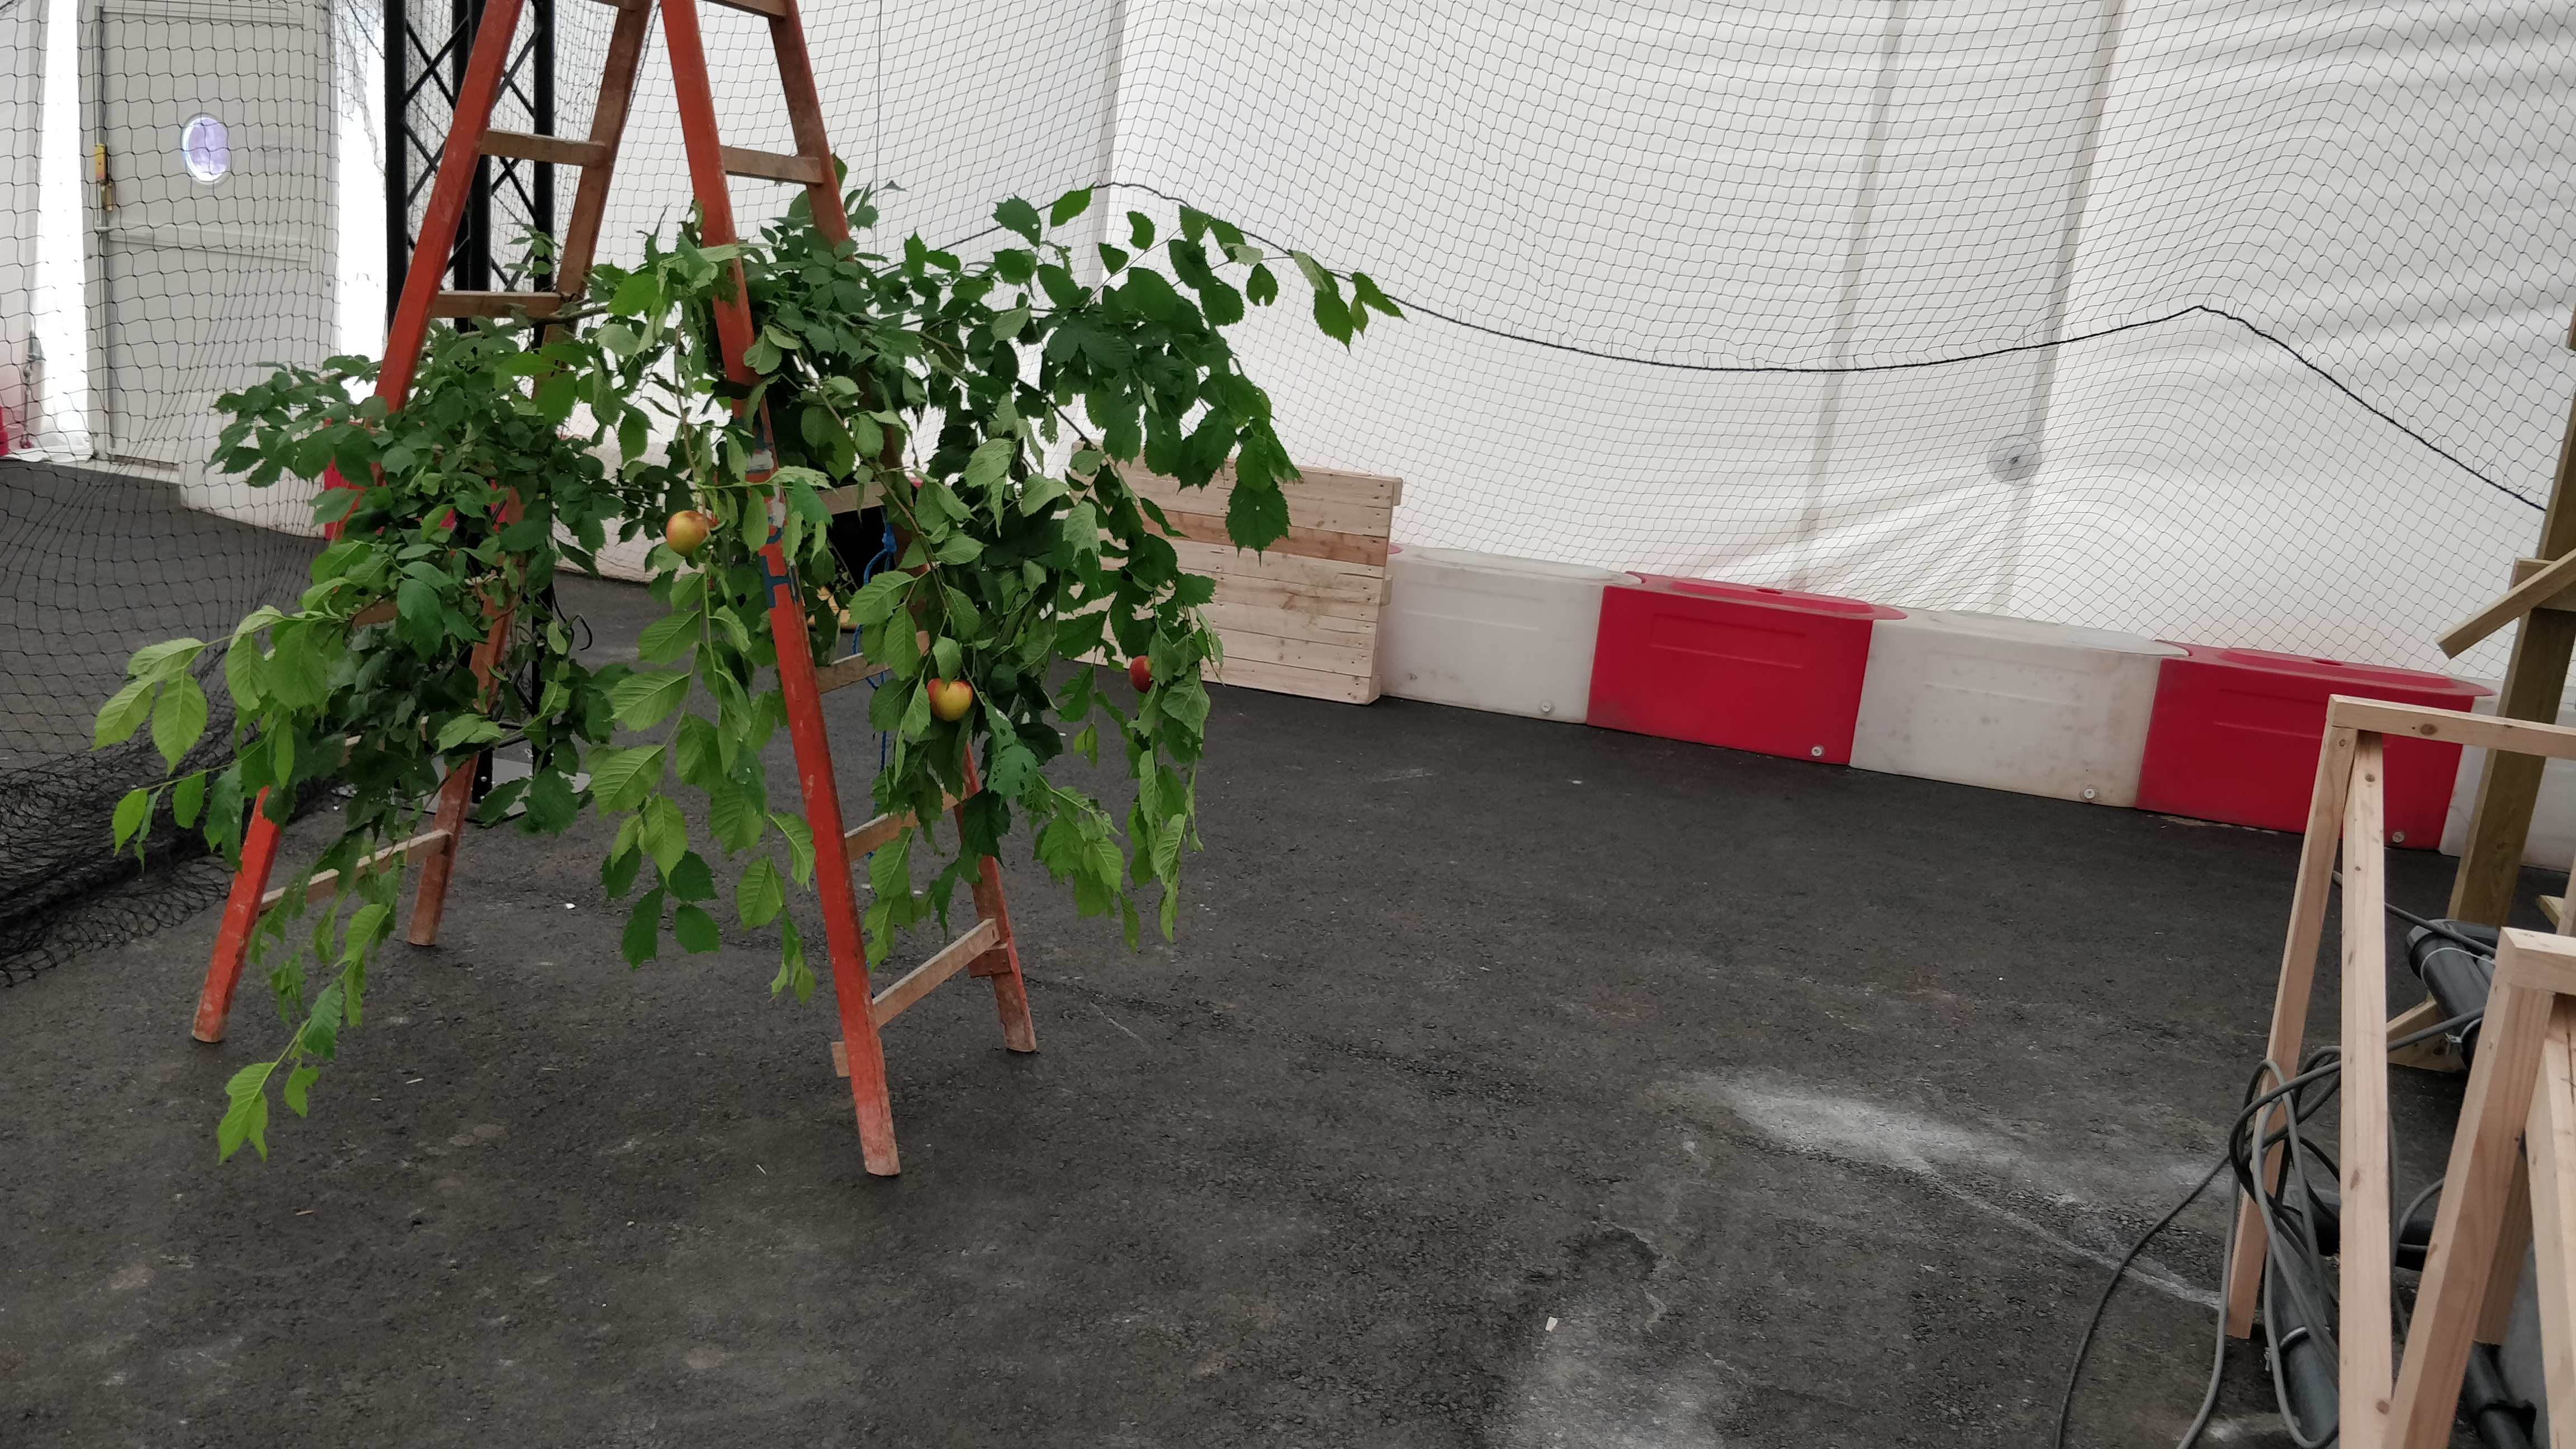apple: (665, 510, 717, 557), (925, 678, 971, 720), (1129, 656, 1152, 694)
